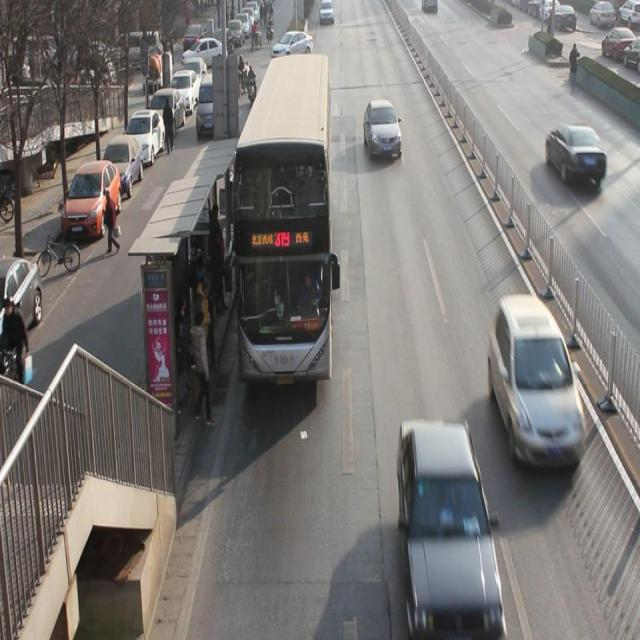car: (396, 423, 502, 628), (491, 300, 586, 473), (544, 123, 609, 195), (362, 102, 404, 168), (285, 31, 312, 60)
van: (234, 55, 334, 378)
